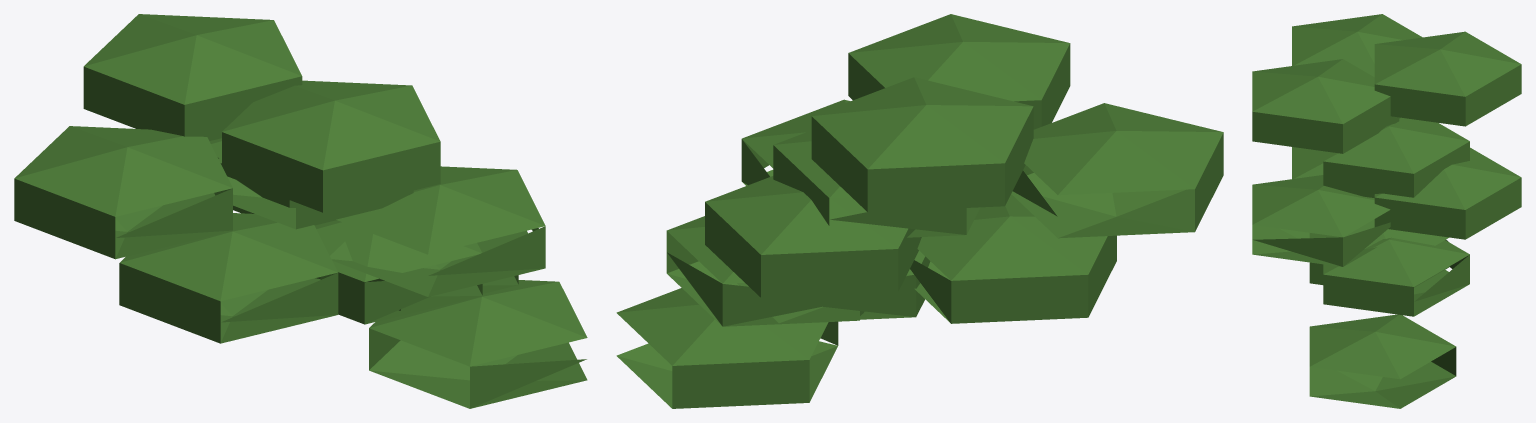
File: nature_bamboo_b_lod1.glb
3 renders of one model, left to right at view 1: azimuth 30°, elevation 25°; view 2: azimuth 150°, elevation 25°; view 3: azimuth 270°, elevation 25°, orthographic. The views are drawn at different scales.
Visible parts, largest first — view 1: nature_bamboo_b_lod1; view 2: nature_bamboo_b_lod1; view 3: nature_bamboo_b_lod1.
Part boxes in pixels (bbox=[...]): nature_bamboo_b_lod1: bbox=[14, 14, 587, 408]; nature_bamboo_b_lod1: bbox=[616, 14, 1223, 408]; nature_bamboo_b_lod1: bbox=[1252, 14, 1521, 408].
Size of the model in its own units: 2.65 by 1.68 by 1.58.
